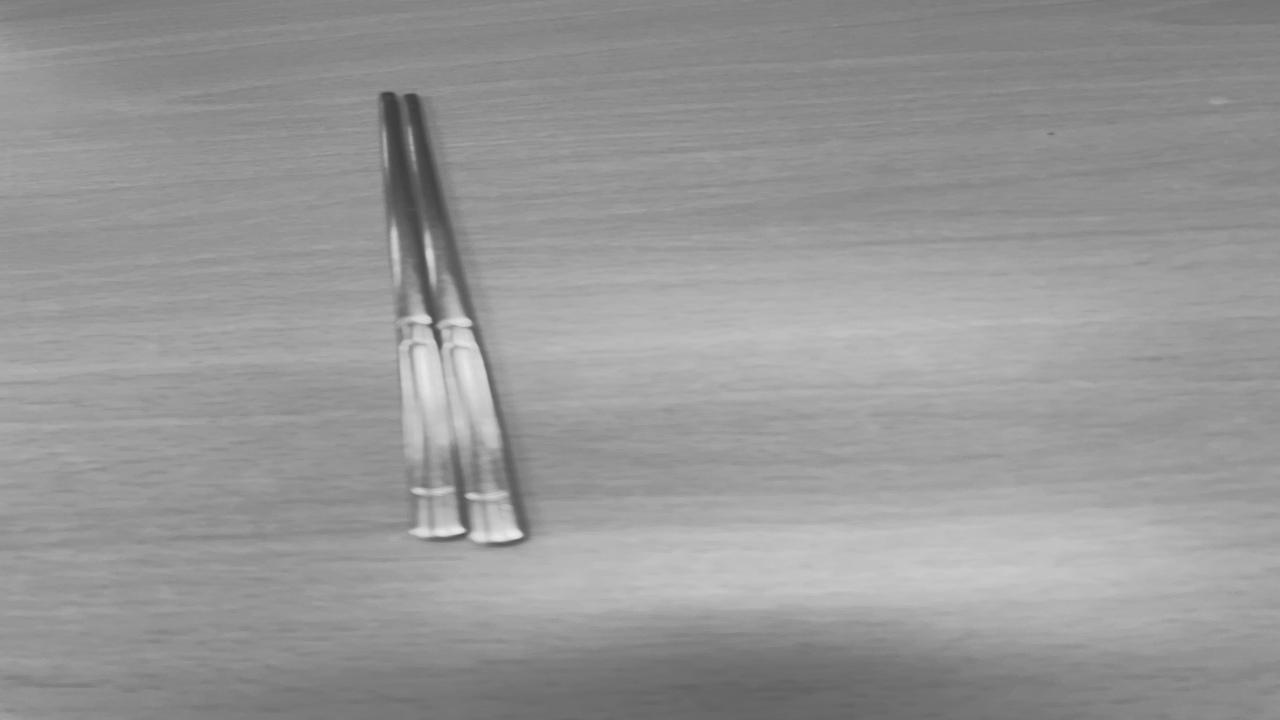chopstick: (381, 93, 521, 538)
